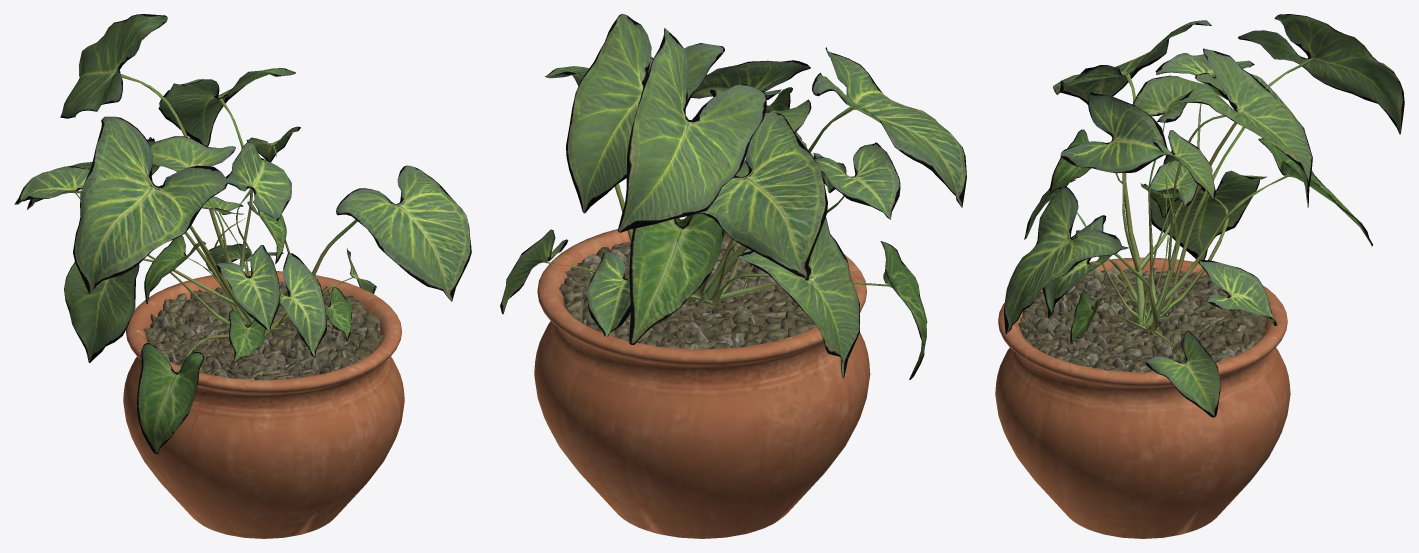
The model's file is plant.glb.
The picture shows the model from 3 angles, left to right: view 1: azimuth 30°, elevation 25°; view 2: azimuth 150°, elevation 25°; view 3: azimuth 270°, elevation 25°; orthographic projection. The views are drawn at different scales.
Parts seen in each view (by area): view 1: potted_plant_02_leaves, potted_plant_02_pot; view 2: potted_plant_02_leaves, potted_plant_02_pot; view 3: potted_plant_02_pot, potted_plant_02_leaves.
Boxes of the visible parts, x1,y1,x2,y2 form: potted_plant_02_leaves: (14, 14, 471, 453); potted_plant_02_pot: (123, 271, 404, 538); potted_plant_02_leaves: (500, 14, 966, 379); potted_plant_02_pot: (534, 219, 870, 538); potted_plant_02_pot: (995, 257, 1290, 538); potted_plant_02_leaves: (1004, 14, 1404, 417).
Size of the model in its own units: 0.7009 by 0.8412 by 0.6574.
Materials: 2 (2 with a texture image).
